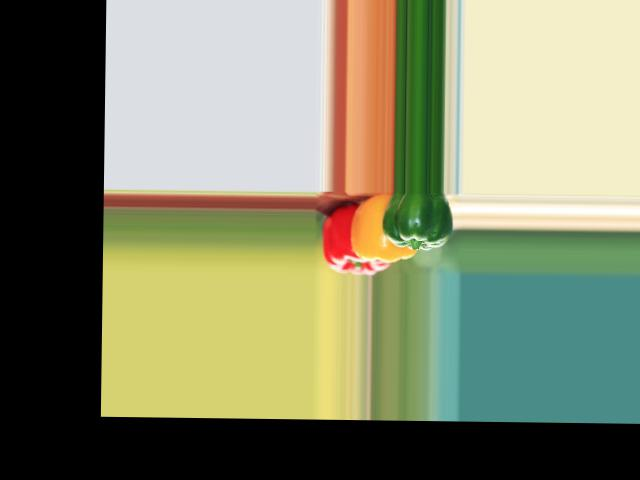bell_pepper: (323, 194, 391, 274)
